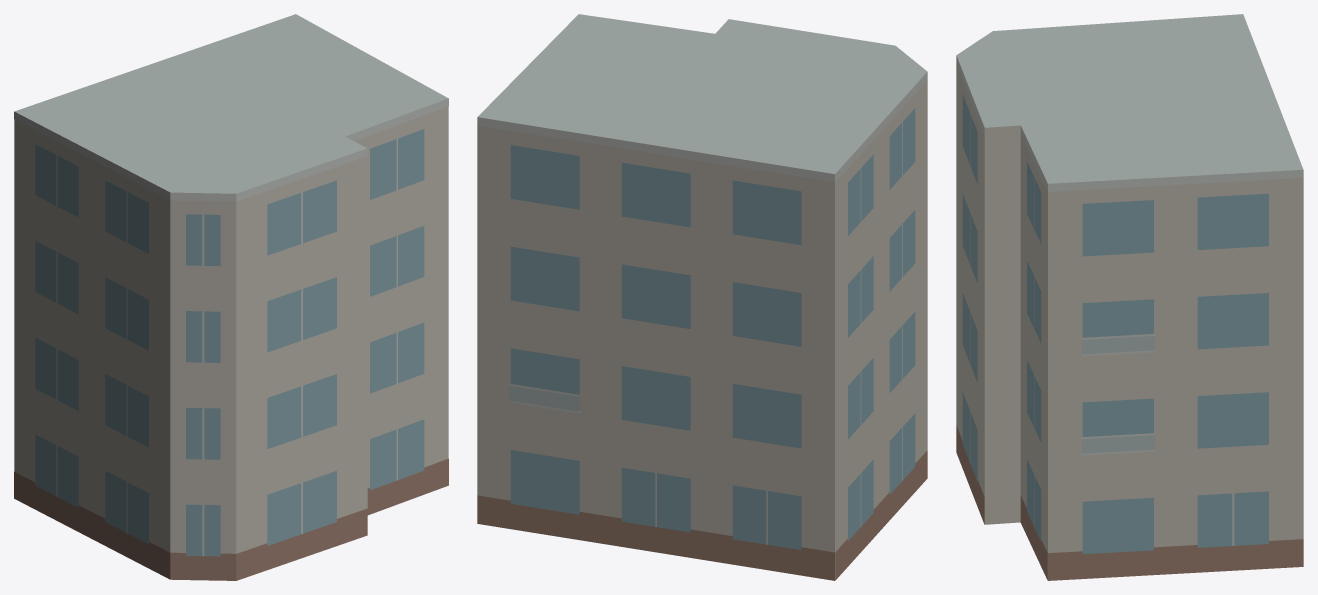
Rendered from survey-upis-32761304.glb.
The picture shows the model from 3 angles, left to right: view 1: azimuth 30°, elevation 25°; view 2: azimuth 150°, elevation 25°; view 3: azimuth 270°, elevation 25°; orthographic projection. The views are drawn at different scales.
Visible parts, largest first — view 1: survey-upis-32761304.tmp; view 2: survey-upis-32761304.tmp; view 3: survey-upis-32761304.tmp.
Part boxes in pixels (bbox=[...]): survey-upis-32761304.tmp: bbox=[14, 14, 448, 580]; survey-upis-32761304.tmp: bbox=[477, 14, 927, 580]; survey-upis-32761304.tmp: bbox=[956, 14, 1303, 580].
Bounding box in the file's own units: 11.02 × 12 × 9.52.
